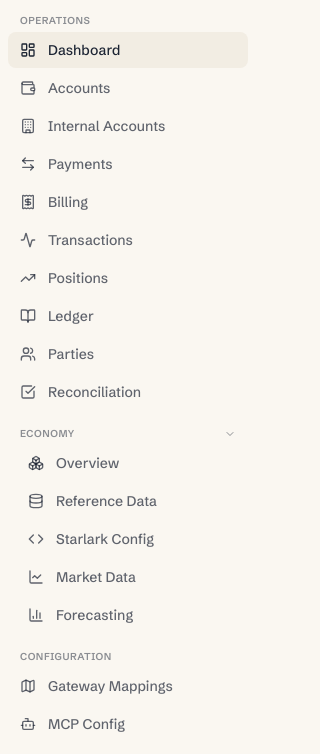
Test: Sidebar › collapsible Economy group › collapses Economy items when toggle button is clicked
Step 1. Click the button "Economy" → x=128, y=434, box [8, 426, 248, 441]
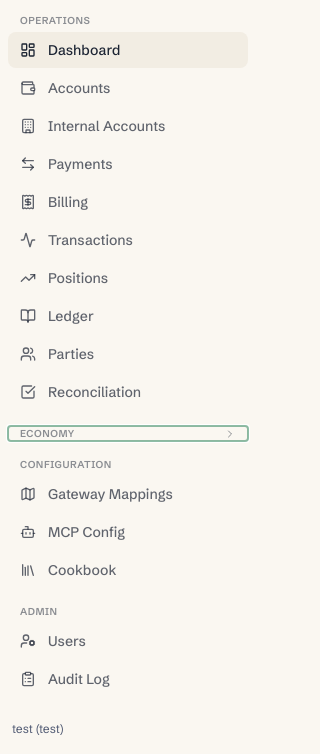
Now the button "Economy" is collapsed, box [8, 426, 248, 441]
Now the link "Overview" is gone
Now the link "Reference Data" is gone
